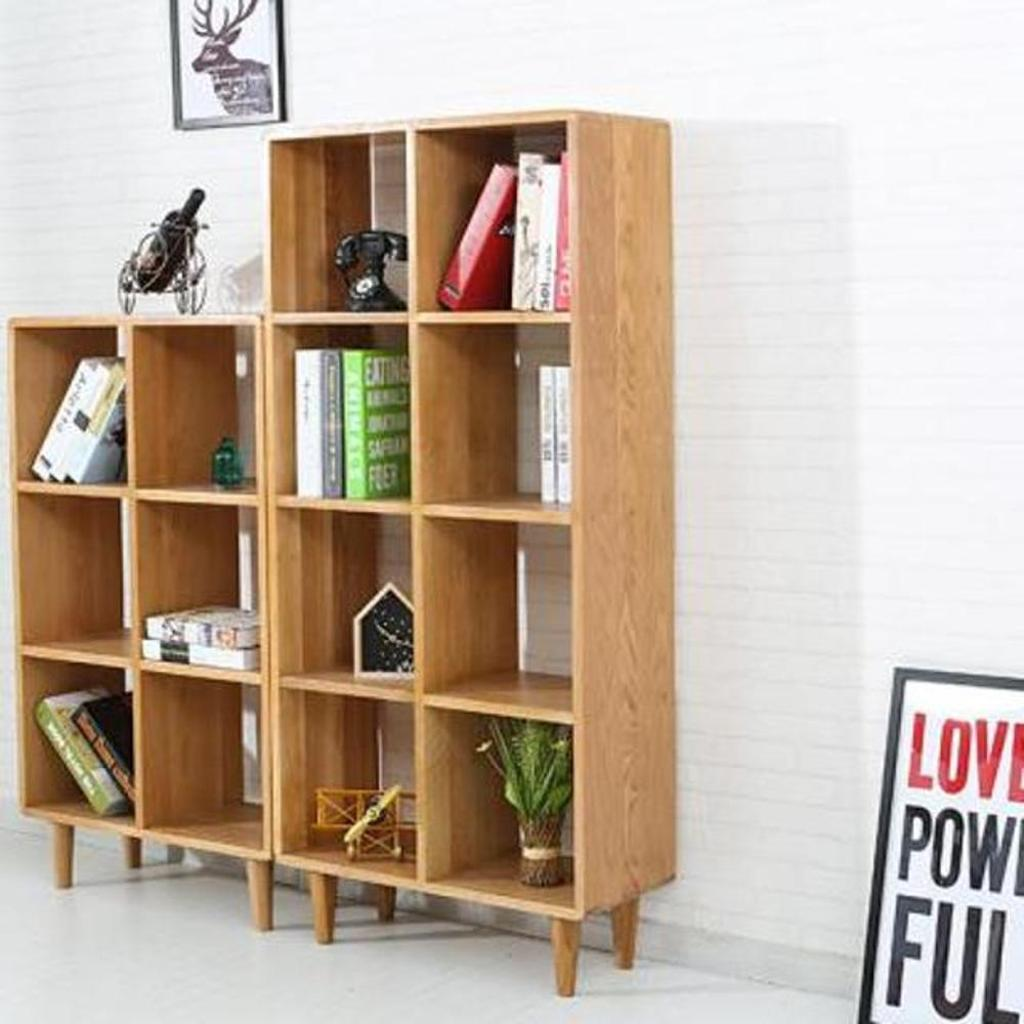lamp: (266, 105, 682, 1006), (8, 313, 280, 935)
